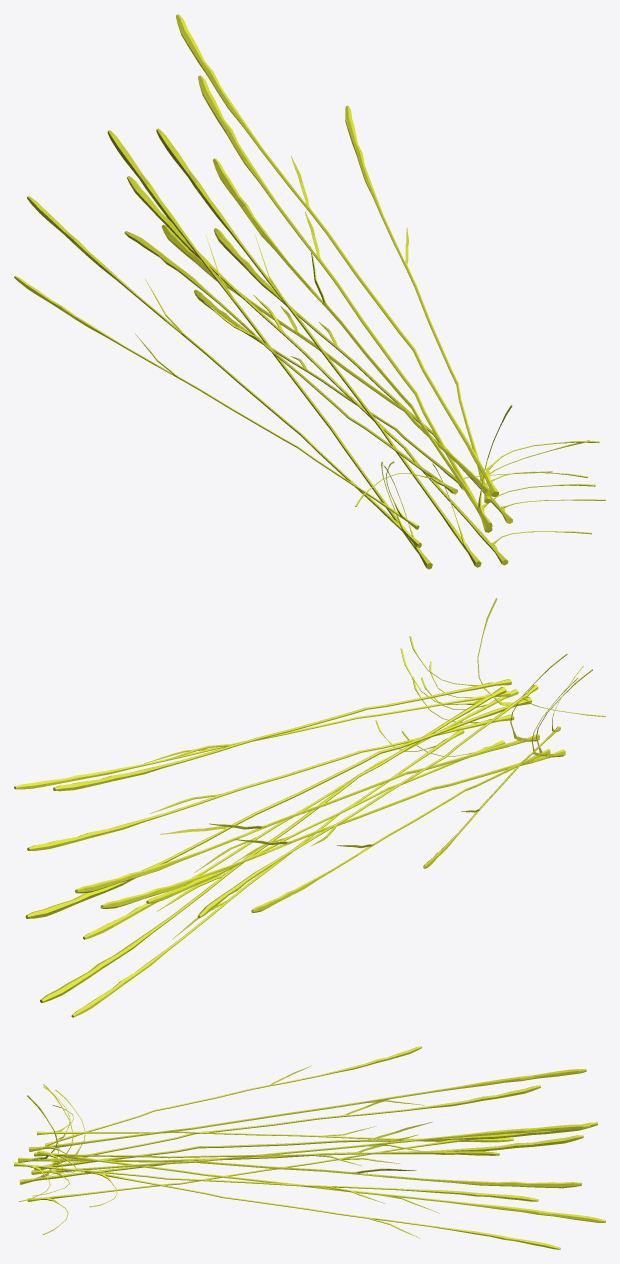
Rendered from Heina2obj2.fbx.
The picture shows the model from 3 angles, top to bottom: view 1: azimuth 30°, elevation 25°; view 2: azimuth 150°, elevation 25°; view 3: azimuth 270°, elevation 25°; orthographic projection. The views are drawn at different scales.
Visible parts, largest first — view 1: Cube; view 2: Cube; view 3: Cube.
Part boxes in pixels (x1,y1,x2,y2): Cube: [14, 14, 605, 569]; Cube: [14, 598, 605, 1017]; Cube: [14, 1046, 605, 1249].
Size of the model in its own units: 38.2 by 24.64 by 73.02.
